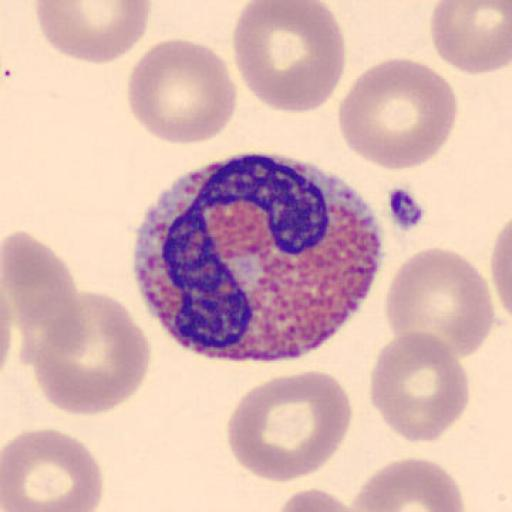RBC: (30, 289, 152, 418), (226, 370, 354, 484), (337, 56, 458, 172), (230, 0, 347, 116), (384, 245, 495, 360), (125, 37, 238, 146), (369, 328, 472, 446), (0, 228, 84, 366), (2, 427, 105, 512), (33, 0, 152, 66), (348, 455, 466, 512), (429, 0, 512, 76), (490, 215, 512, 333), (275, 485, 368, 512), (0, 254, 13, 384), (0, 283, 14, 377)
WBC: (132, 156, 386, 362)
